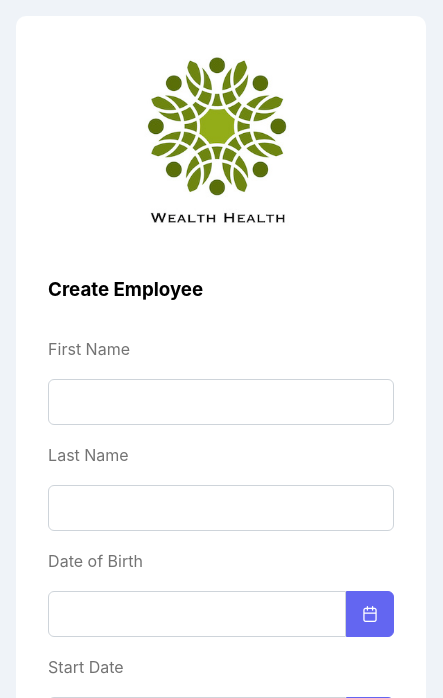
Test: Form › displays error message when name input is less than 3 characters long
The width and height of the screenshot is (443, 698).
Type "Jo" into the field with test id "firstName-input" at coordinates (221, 402), box [48, 379, 394, 425]
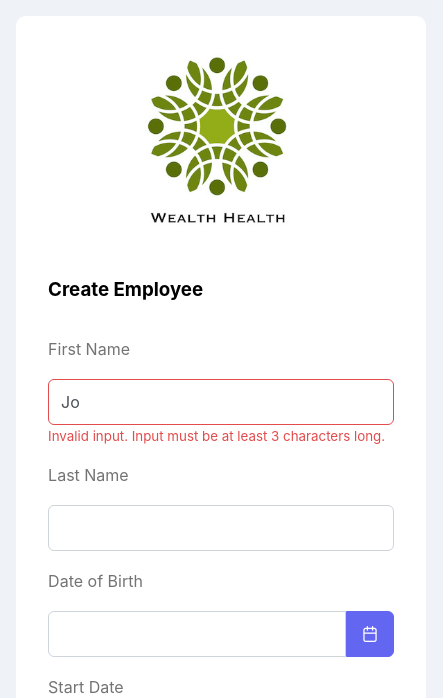
Expected: the text "Invalid input. Input must be at least 3 characters long." is shown, [48, 428, 385, 444]
